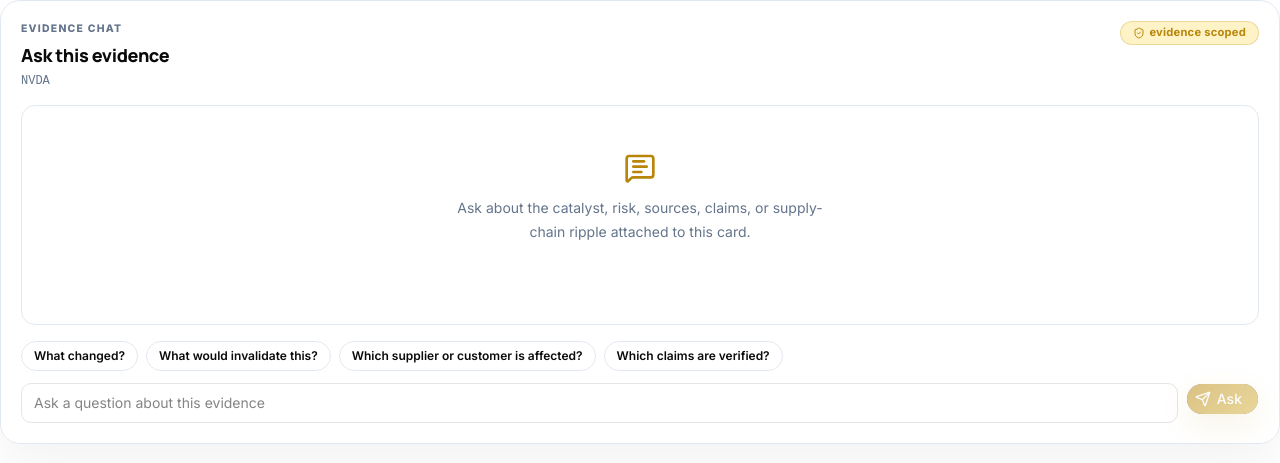
Test: SignalEvidenceChat › posts a suggested evidence question and renders the answer
Click the button "What changed?" at (79, 356), box [21,341,138,371]
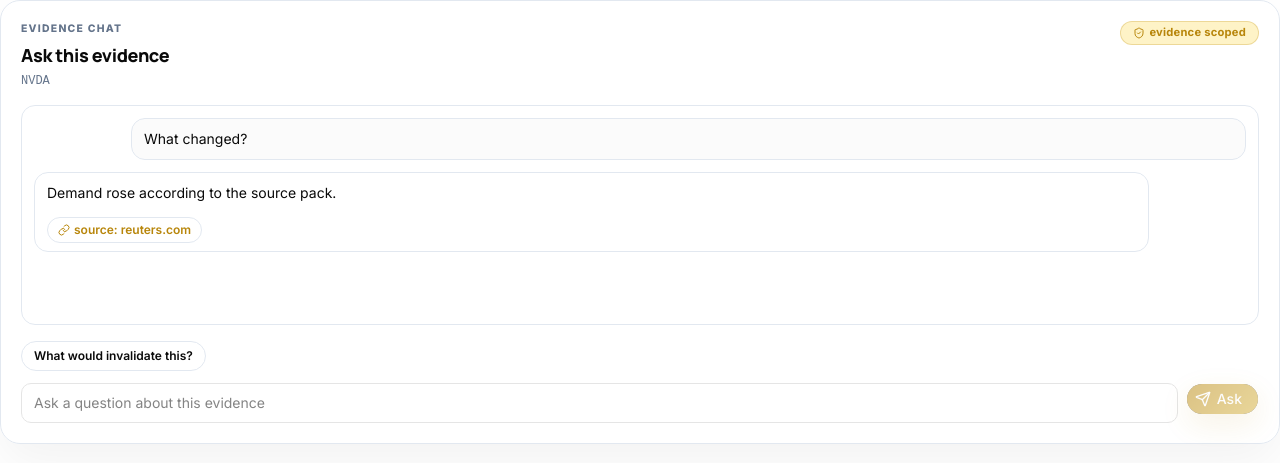
Result: the text "Demand rose according to the source pack." is shown at [47,184,336,201]
Result: the text "source: reuters.com" is shown at [74,222,191,238]
